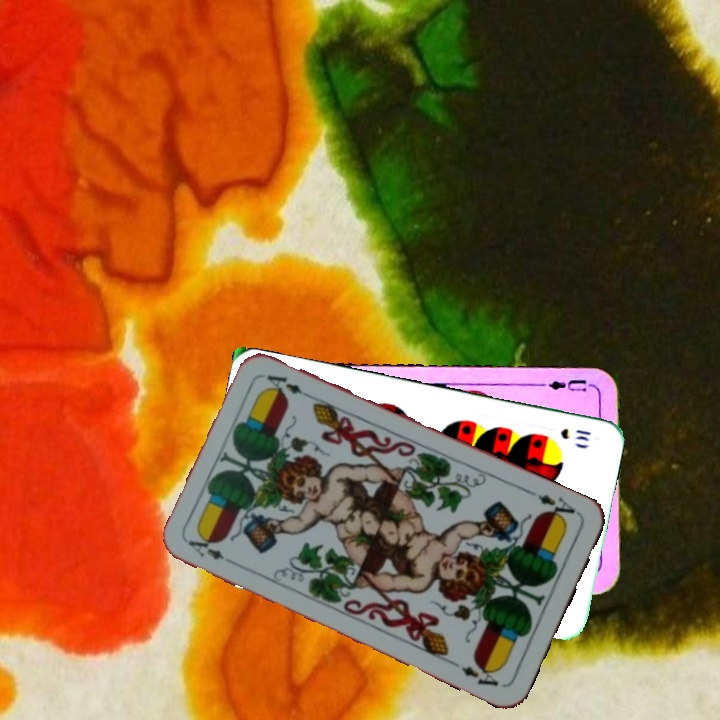EA: (184, 531, 240, 568), (533, 490, 582, 525)
EU: (538, 376, 589, 394)
S10: (556, 424, 593, 444)
